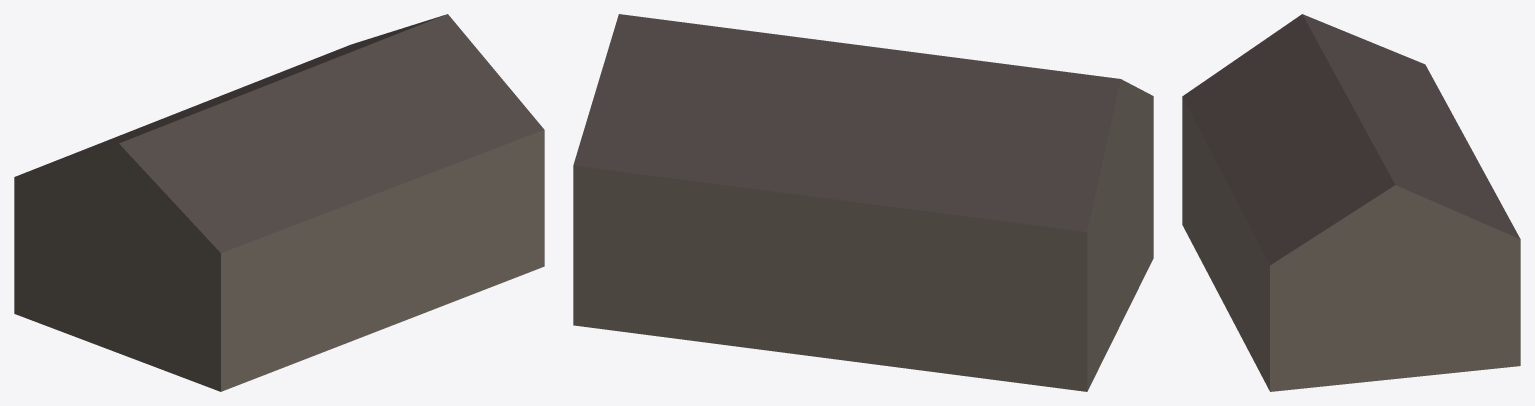
The picture shows the model from 3 angles, left to right: view 1: azimuth 30°, elevation 25°; view 2: azimuth 150°, elevation 25°; view 3: azimuth 270°, elevation 25°; orthographic projection. The views are drawn at different scales.
Visible parts, largest first — view 1: HP-w293398945; view 2: HP-w293398945; view 3: HP-w293398945.
Part boxes in pixels (x1=…): HP-w293398945: x1=14, y1=14, x2=544, y2=391; HP-w293398945: x1=573, y1=14, x2=1153, y2=391; HP-w293398945: x1=1182, y1=14, x2=1520, y2=391.
Size of the model in its own units: 20.46 by 9.2 by 14.56.
